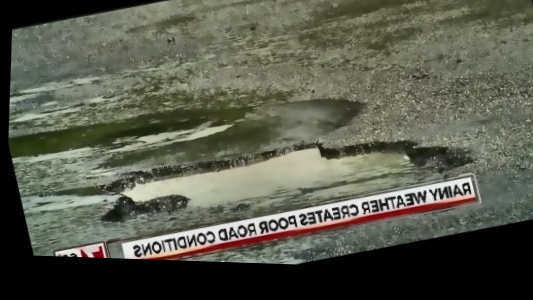pothole: (89, 97, 478, 257)
